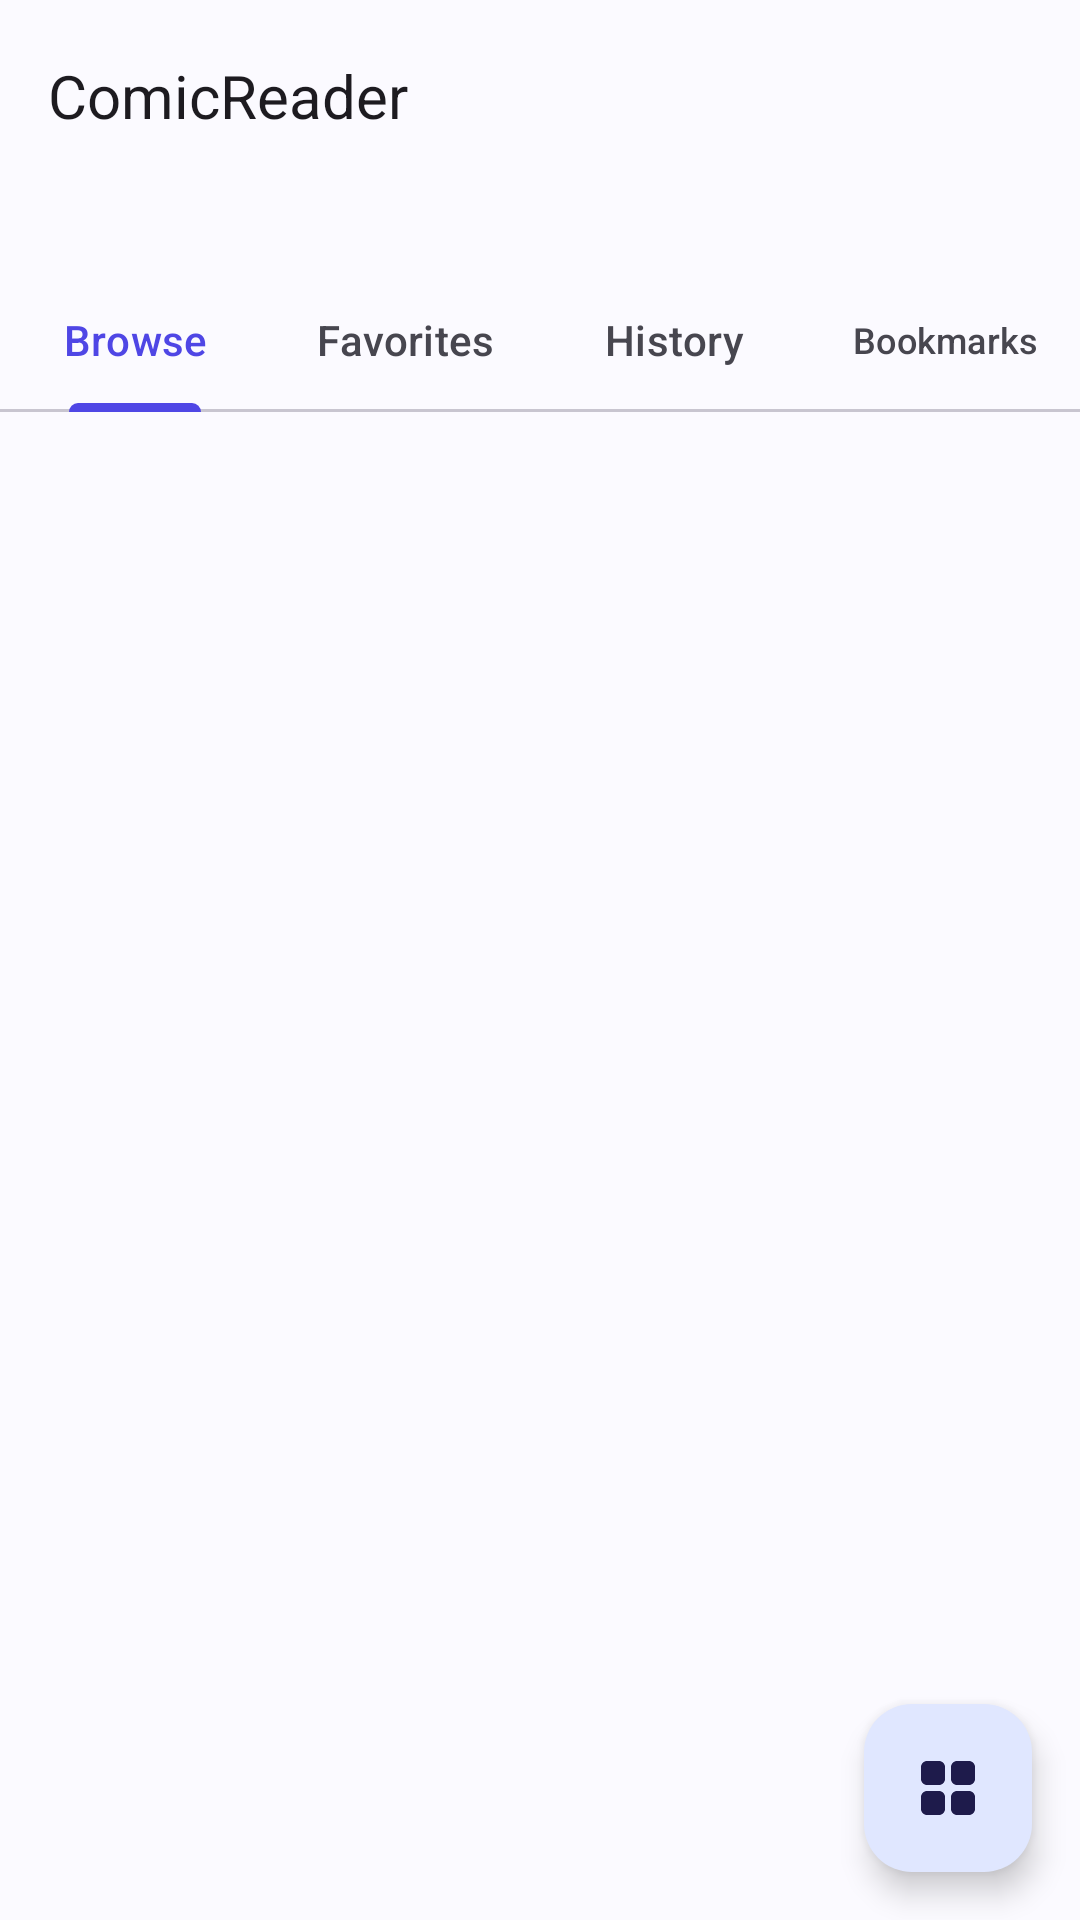

Named icons in this screenshot (1080px x 1920px) and their bounding boxes, rect(x1, y1, x2, y2):
Grid view: rect(864, 1704, 1032, 1872)
